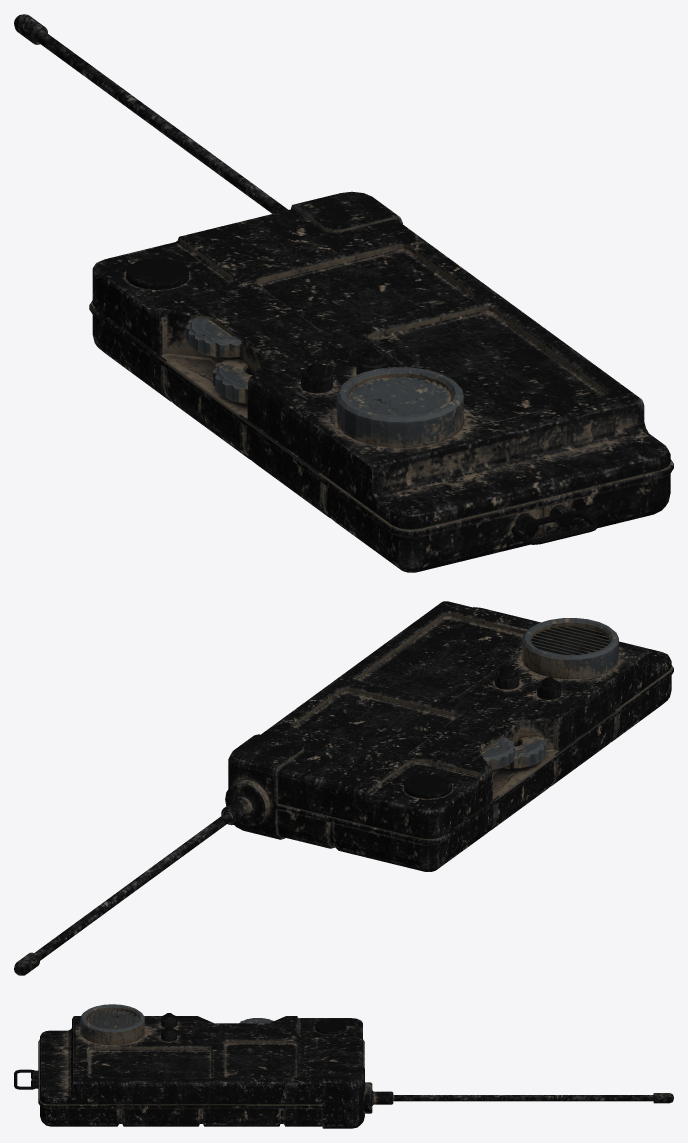
File: radio.fbx
The picture shows the model from 3 angles, top to bottom: view 1: azimuth 30°, elevation 25°; view 2: azimuth 150°, elevation 25°; view 3: azimuth 270°, elevation 25°; orthographic projection. The views are drawn at different scales.
Visible parts, largest first — view 1: lautsprecher_Untitled_021; view 2: lautsprecher_Untitled_021; view 3: lautsprecher_Untitled_021.
Boxes of the visible parts, x1,y1,x2,y2 form: lautsprecher_Untitled_021: (14, 14, 673, 572); lautsprecher_Untitled_021: (14, 601, 673, 975); lautsprecher_Untitled_021: (14, 1004, 673, 1128).
Bounding box in the file's own units: 307 × 131 × 1225.
